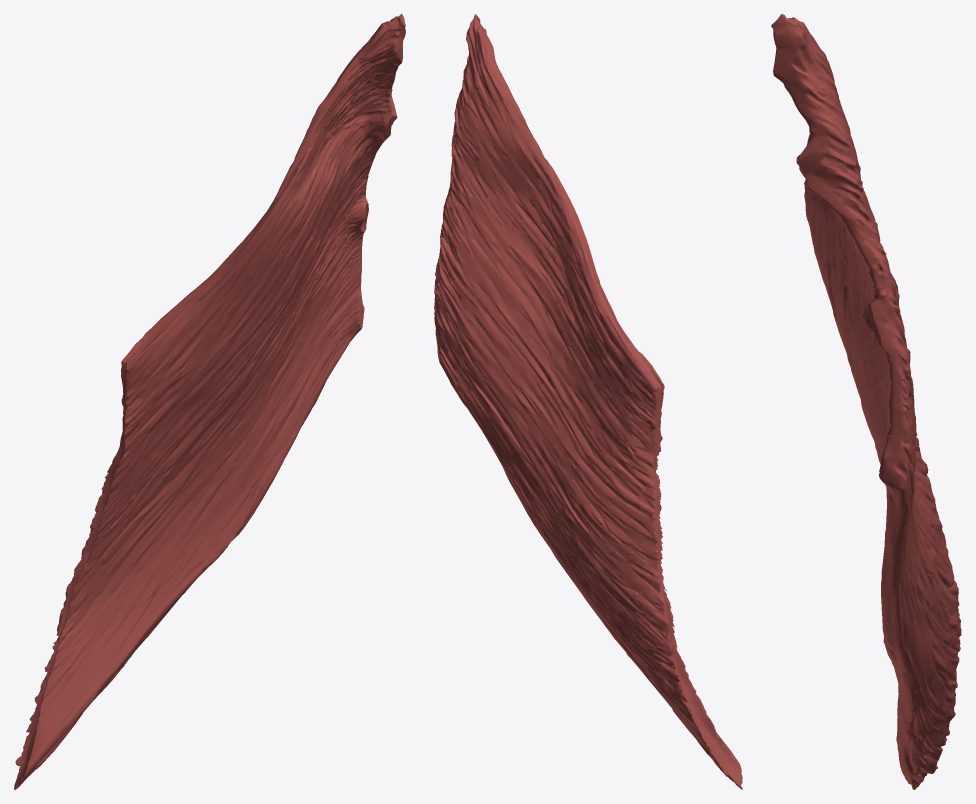
File: FMA13381.glb
3 renders of one model, left to right at view 1: azimuth 30°, elevation 25°; view 2: azimuth 150°, elevation 25°; view 3: azimuth 270°, elevation 25°, orthographic. The views are drawn at different scales.
Visible parts, largest first — view 1: FMA13381; view 2: FMA13381; view 3: FMA13381.
Part boxes in pixels (x1=…): FMA13381: x1=14, y1=14, x2=405, y2=789; FMA13381: x1=434, y1=14, x2=742, y2=789; FMA13381: x1=771, y1=14, x2=961, y2=789.
Size of the model in its own units: 0.0858 by 0.1743 by 0.03.
